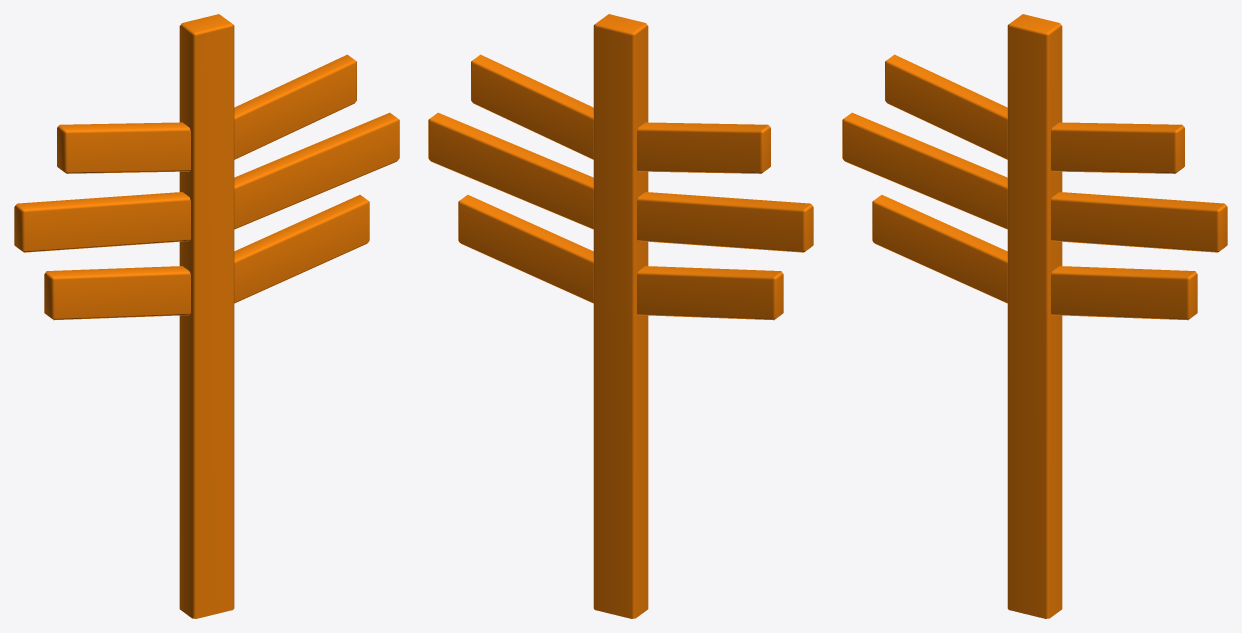
Rendered from Isl_17_Plant_1.fbx.
3 renders of one model, left to right at view 1: azimuth 30°, elevation 25°; view 2: azimuth 150°, elevation 25°; view 3: azimuth 330°, elevation 25°, orthographic.
Visible parts, largest first — view 1: Isl_17_Plant_1; view 2: Isl_17_Plant_1; view 3: Isl_17_Plant_1.
Part boxes in pixels (bbox=[...]): Isl_17_Plant_1: bbox=[14, 14, 399, 618]; Isl_17_Plant_1: bbox=[428, 14, 813, 618]; Isl_17_Plant_1: bbox=[842, 14, 1227, 618].
Size of the model in its own units: 73.91 by 5.28 by 109.
Materials: 1 (1 with a texture image).
